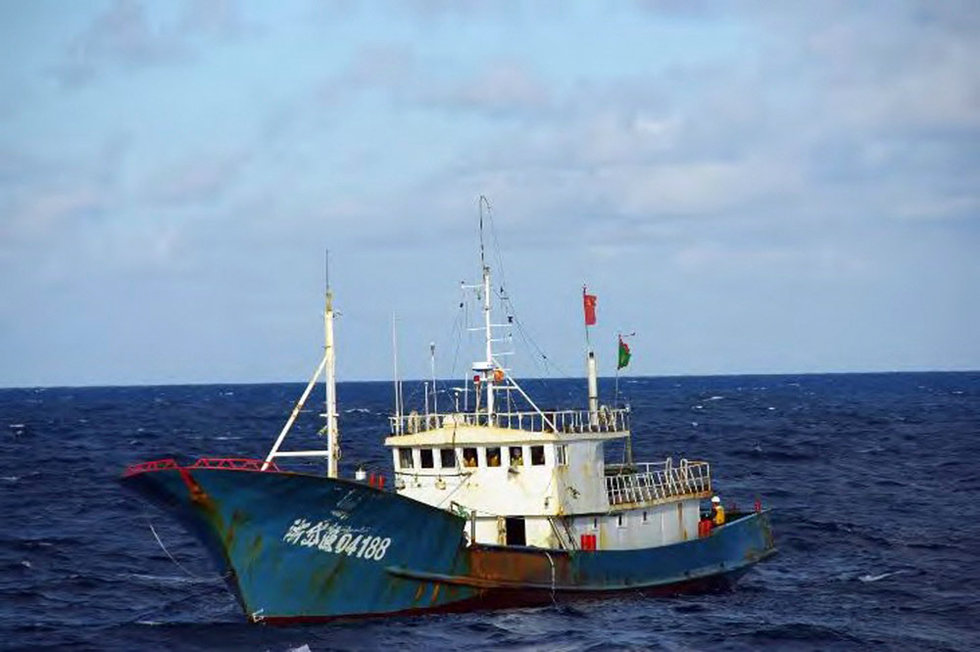otherboat: (115, 255, 777, 607)
